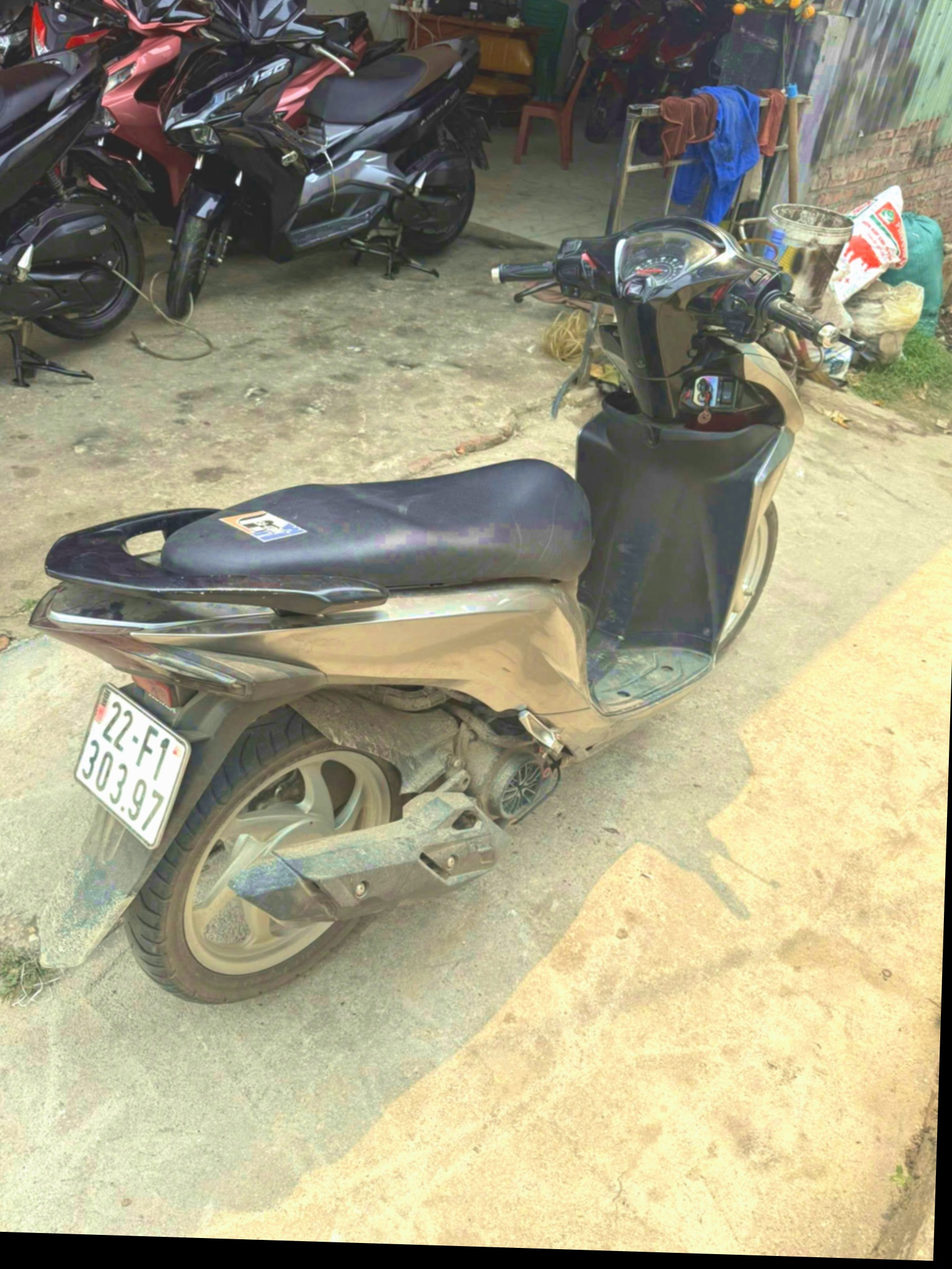Bien-so: (65, 673, 206, 858)
